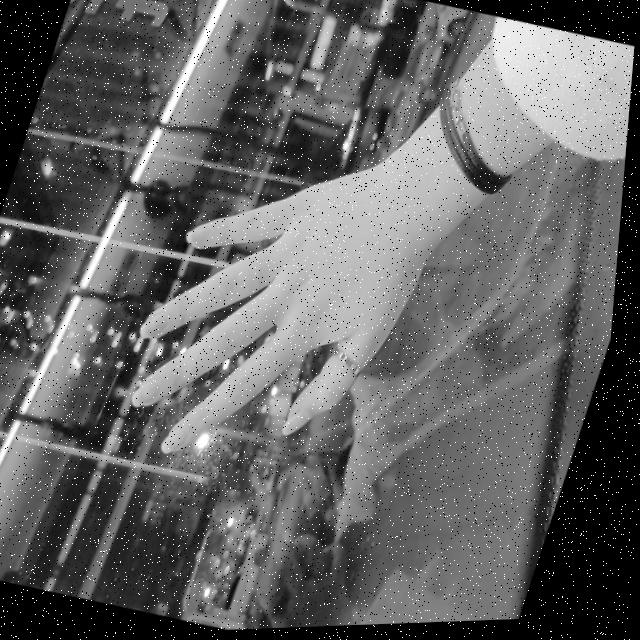hand: (105, 123, 458, 503)
